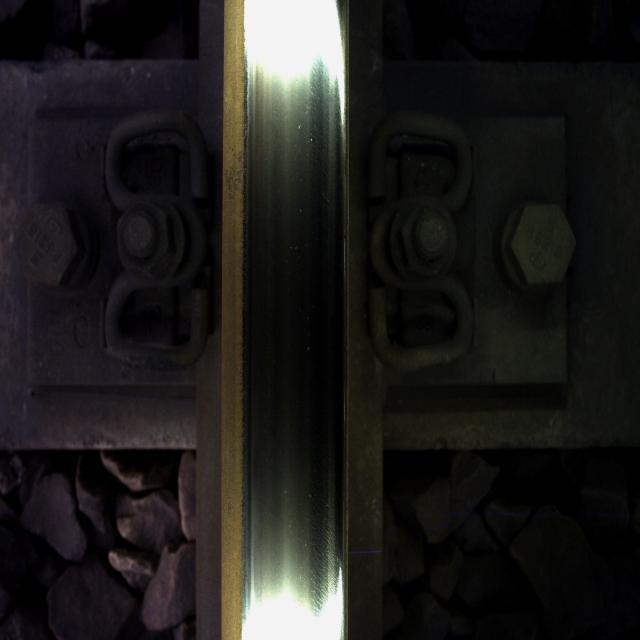break: (251, 54, 339, 535)
